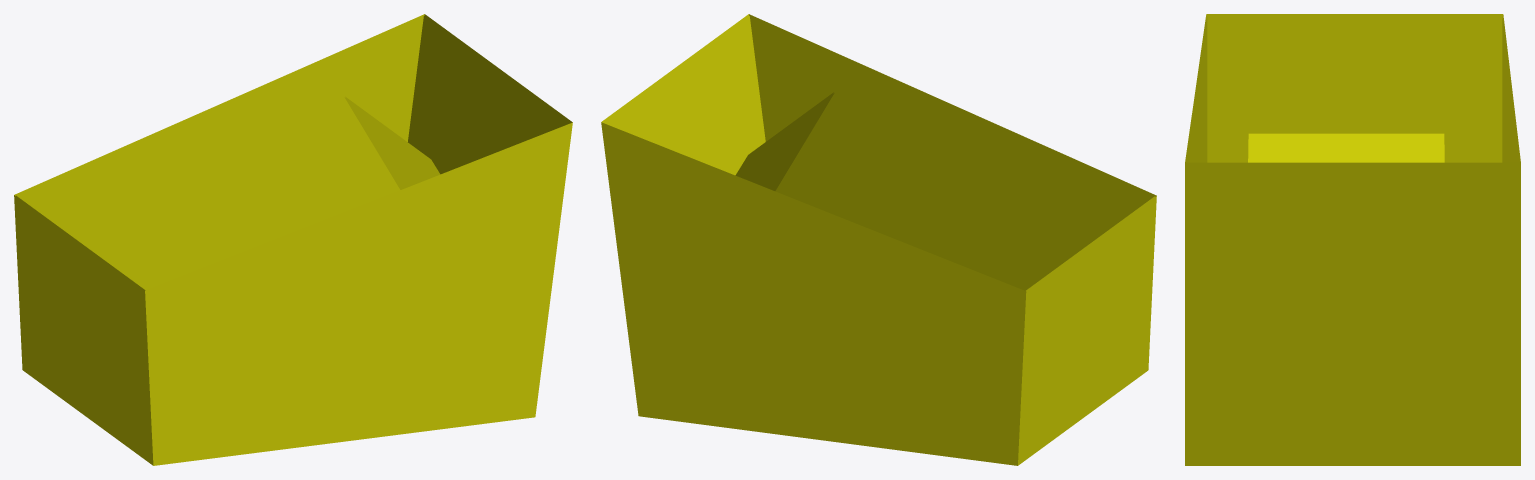
The model's file is Shopping_Cart_01_Alpha.fbx.
3 views of the same model, side by side, from view 1: azimuth 30°, elevation 25°; view 2: azimuth 150°, elevation 25°; view 3: azimuth 270°, elevation 25° (orthographic). The views are drawn at different scales.
Parts seen in each view (by area): view 1: Shopping_Cart_01_Alpha; view 2: Shopping_Cart_01_Alpha; view 3: Shopping_Cart_01_Alpha.
Part boxes in pixels (bbox=[...]): Shopping_Cart_01_Alpha: bbox=[14, 14, 572, 465]; Shopping_Cart_01_Alpha: bbox=[601, 14, 1156, 465]; Shopping_Cart_01_Alpha: bbox=[1185, 14, 1520, 465].
Bounding box in the file's own units: 84.64 × 55.23 × 51.88.
